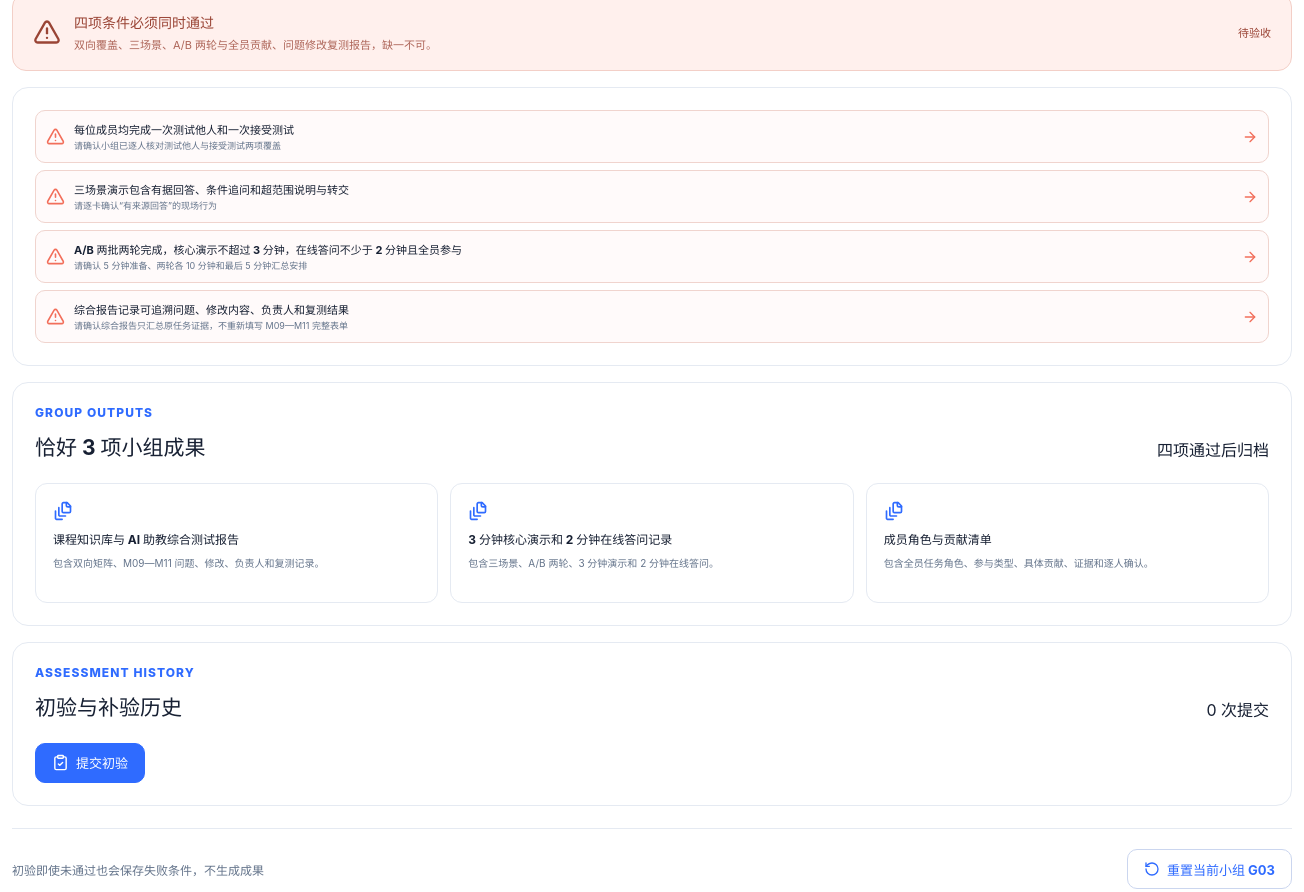
Test: G03 工作台关键流程 › 阶段验收允许保存未通过初验，并显示四项条件和三个固定成果
The image size is (1304, 892).
(page scrolled)
Click the button "提交初验": (90, 763) x1=35 y1=743 x2=145 y2=783
(page scrolled)
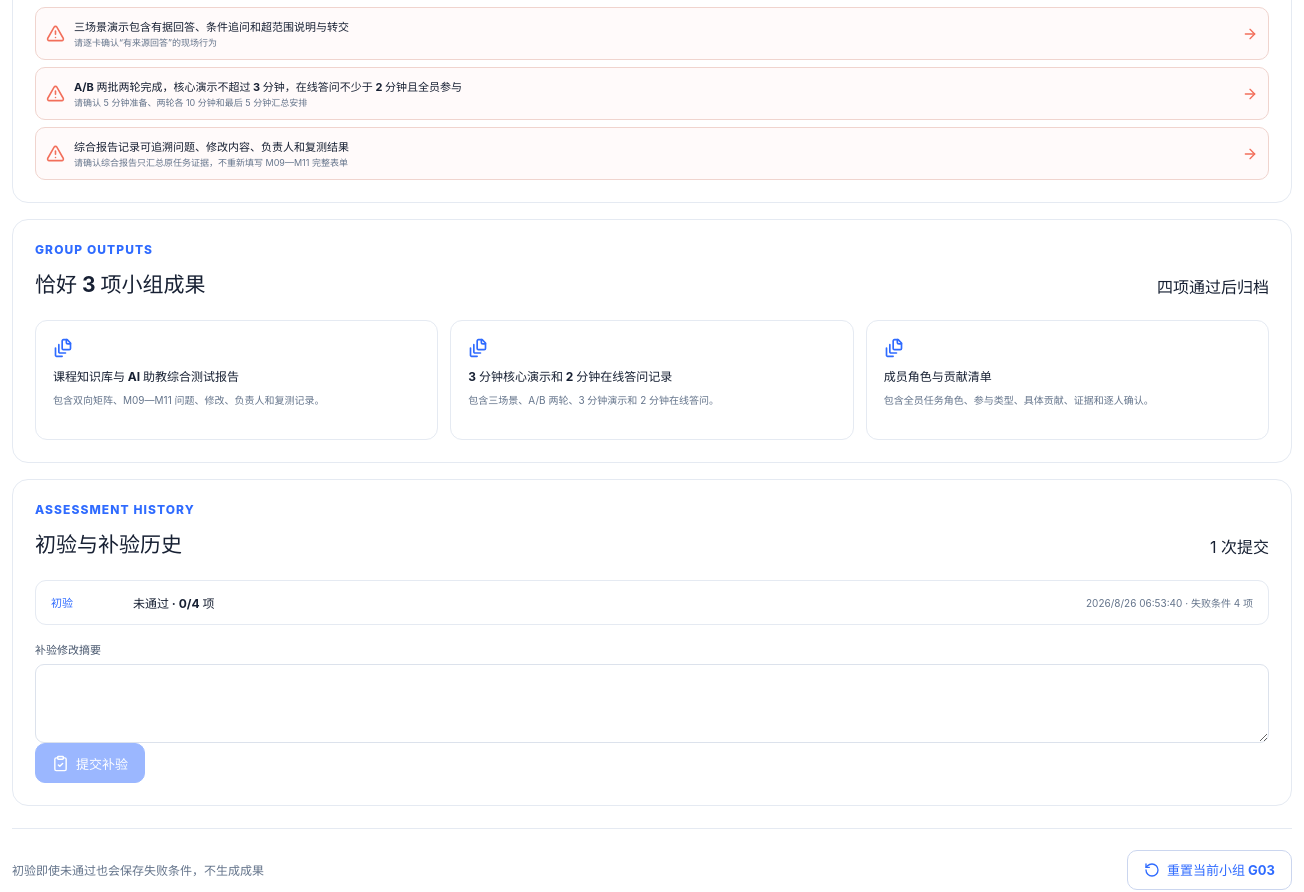
Expected: the text "初验" is shown, x1=51 y1=596 x2=73 y2=610
Now the text "未通过 · 0/4 项" is shown, box x1=133 y1=596 x2=214 y2=611
Now the text box labelled "补验修改摘要" is shown, box x1=35 y1=664 x2=1269 y2=743
